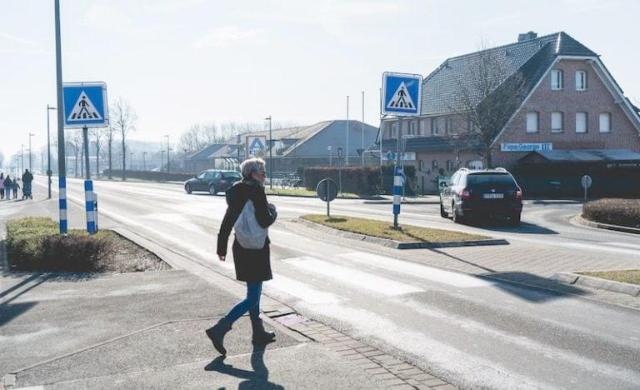crosswalk-sign: (63, 82, 109, 128), (382, 73, 422, 118)
